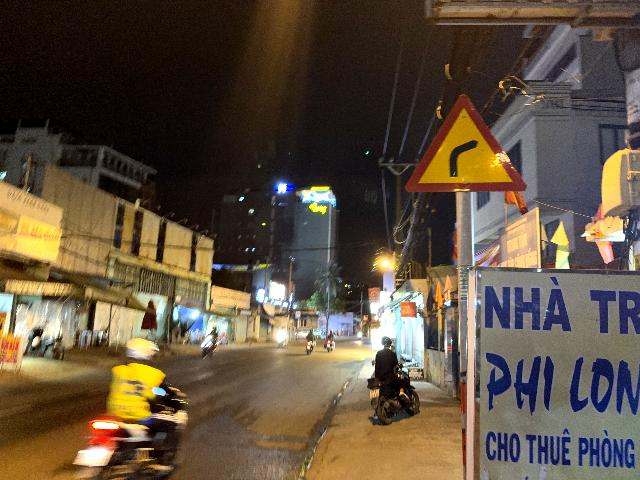cho-ngoat-nguy-hiem-ben-phai: (404, 94, 527, 193)
